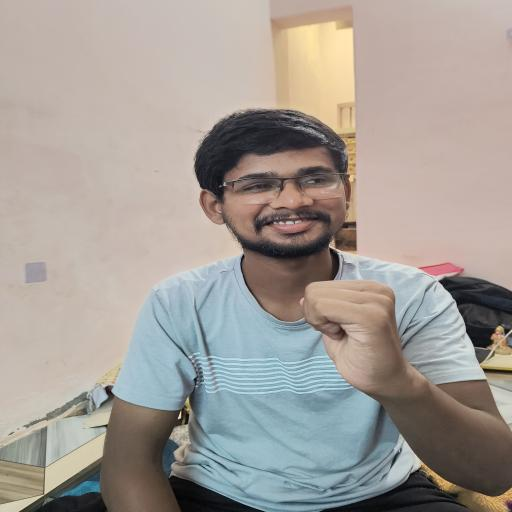wait: (288, 270, 448, 415)
